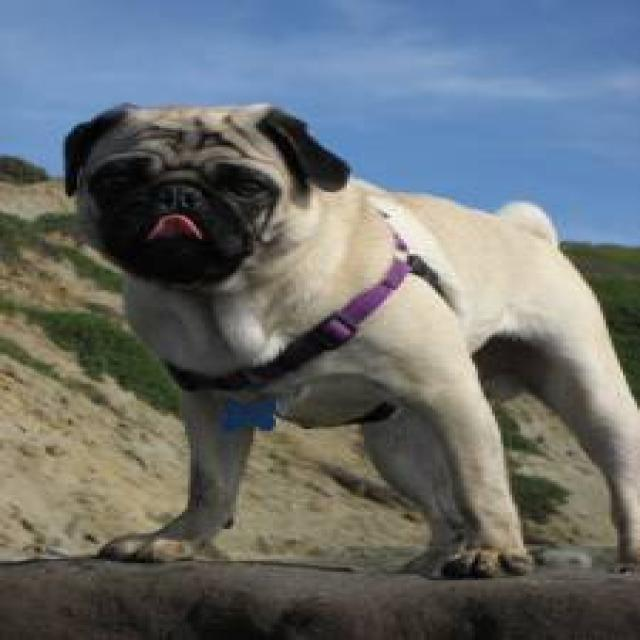dog-pug: (43, 96, 634, 578)
